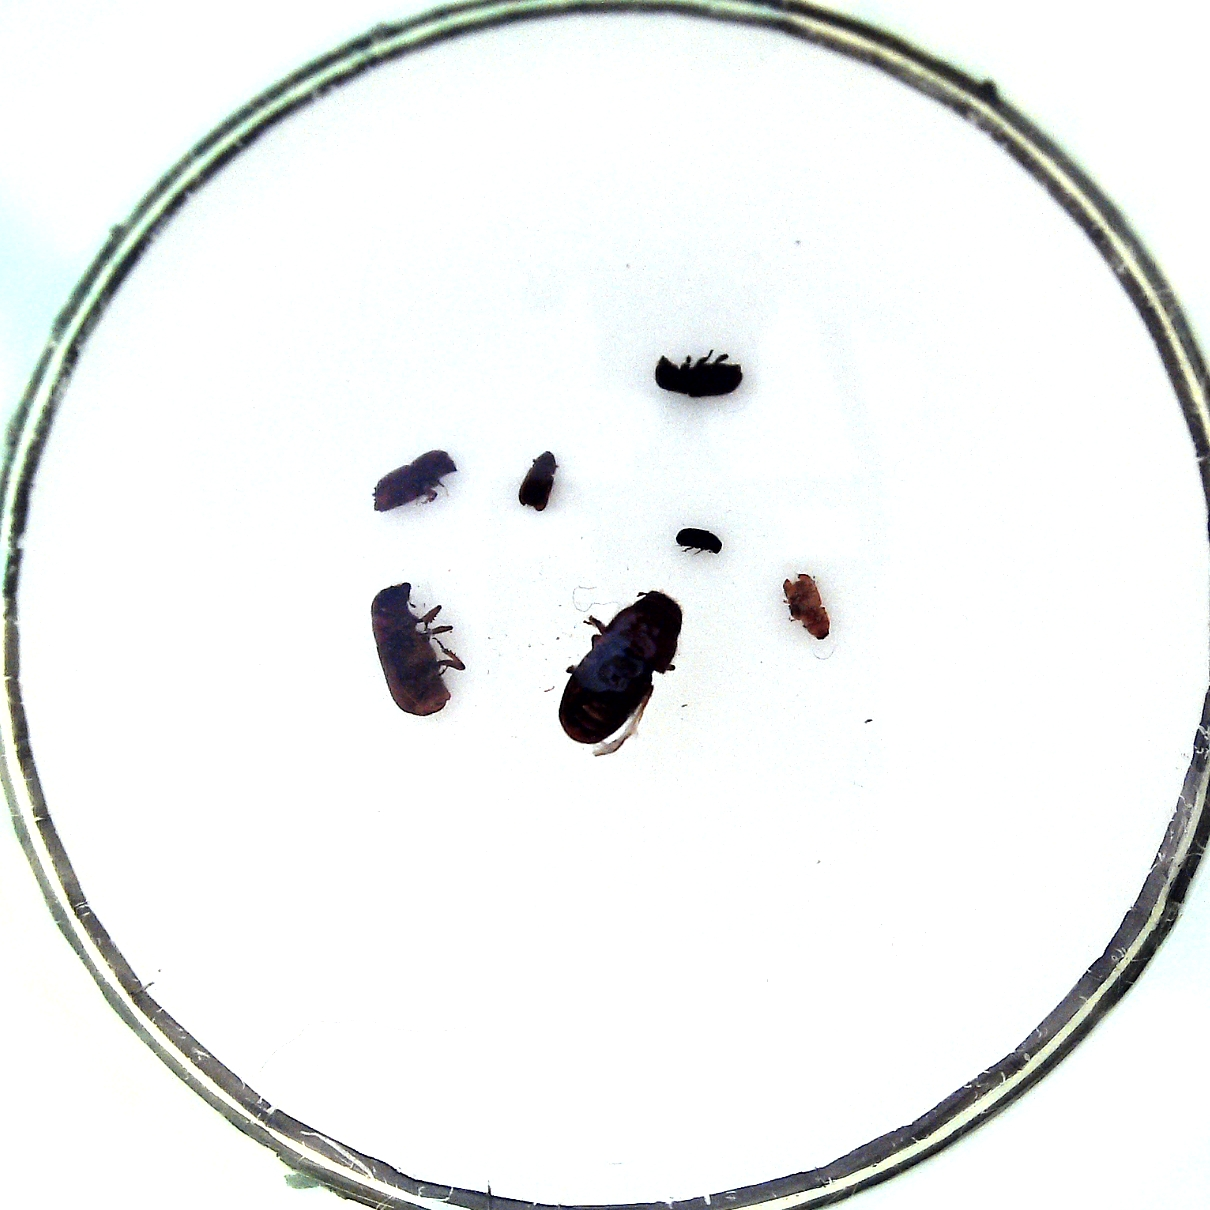Leconte: (557, 591, 681, 745), (371, 581, 452, 716)
acuminatus: (675, 526, 722, 555)
armandi: (654, 355, 744, 399)
coleoptera: (783, 575, 830, 640), (519, 451, 556, 512)
linnaeus: (371, 450, 458, 510)
